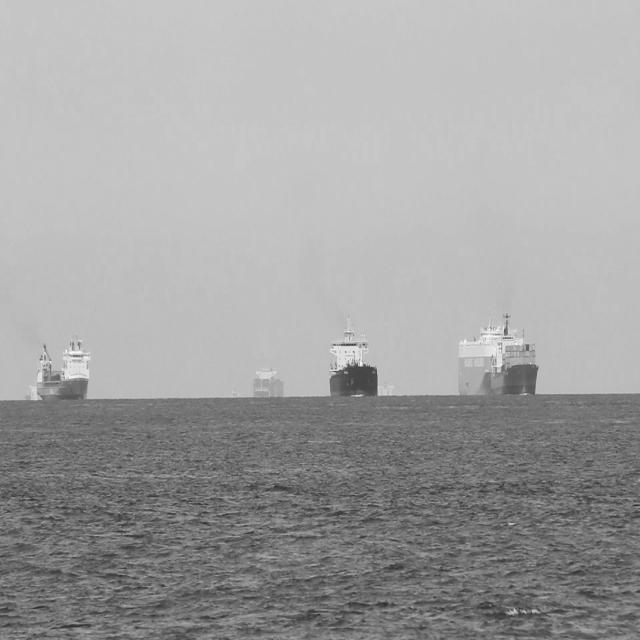ship: (456, 308, 540, 395), (329, 310, 378, 396), (35, 329, 91, 399), (253, 363, 284, 397), (376, 382, 396, 395), (26, 380, 36, 400), (230, 383, 240, 399)
